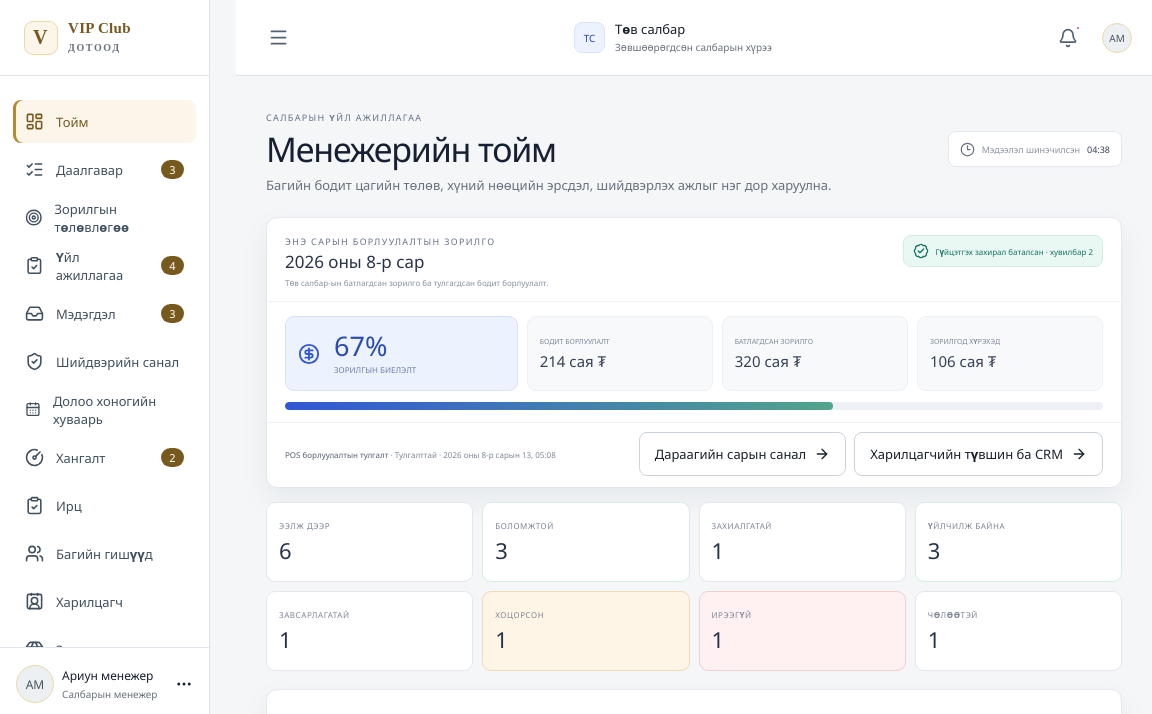
WeeklySchedulePage › shows PWA notifications and records an escalation without claiming delivery
Click the link "Мэдэгдэл 3".
click(104, 314)  # box [25,304,184,323]
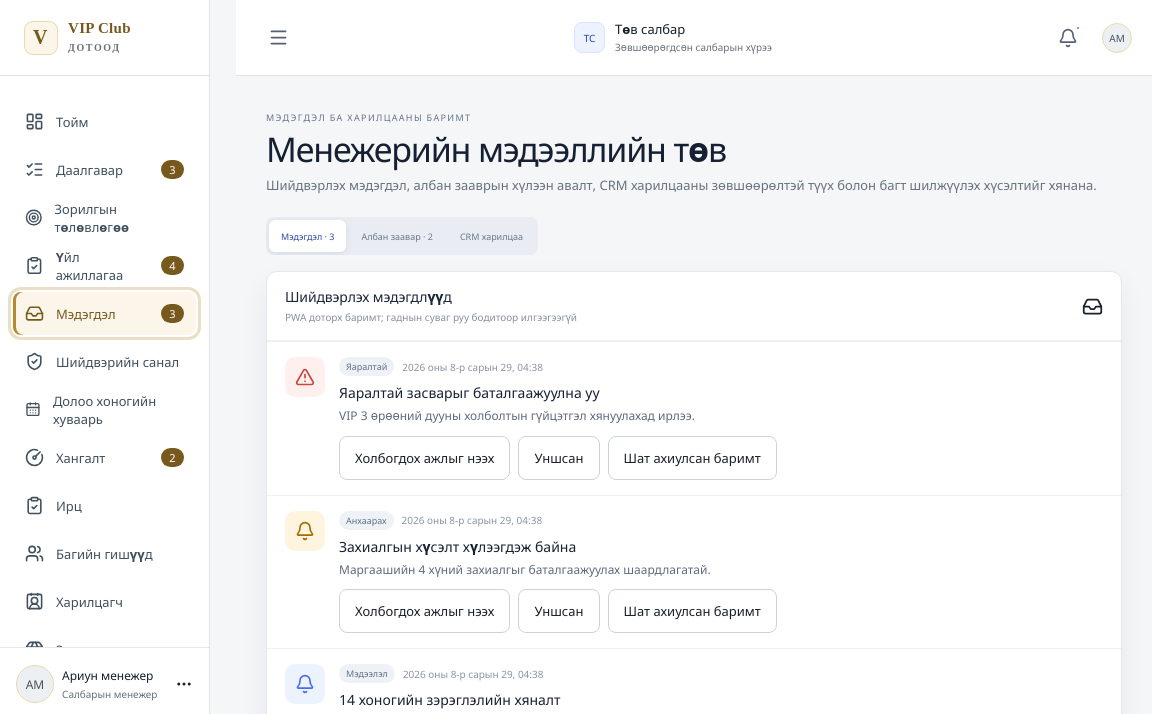
Check: the heading "Менежерийн мэдээллийн төв" is shown, box [266,126,726,172]
Check: the text "PWA доторх баримт; гаднын суваг руу бодитоор илгээгээгүй" is shown, box [285,310,577,324]
Click the button "Шат ахиулсан баримт" below "Яаралтай засварыг баталгаажуулна уу".
click(692, 458)  # box [608,436,777,480]
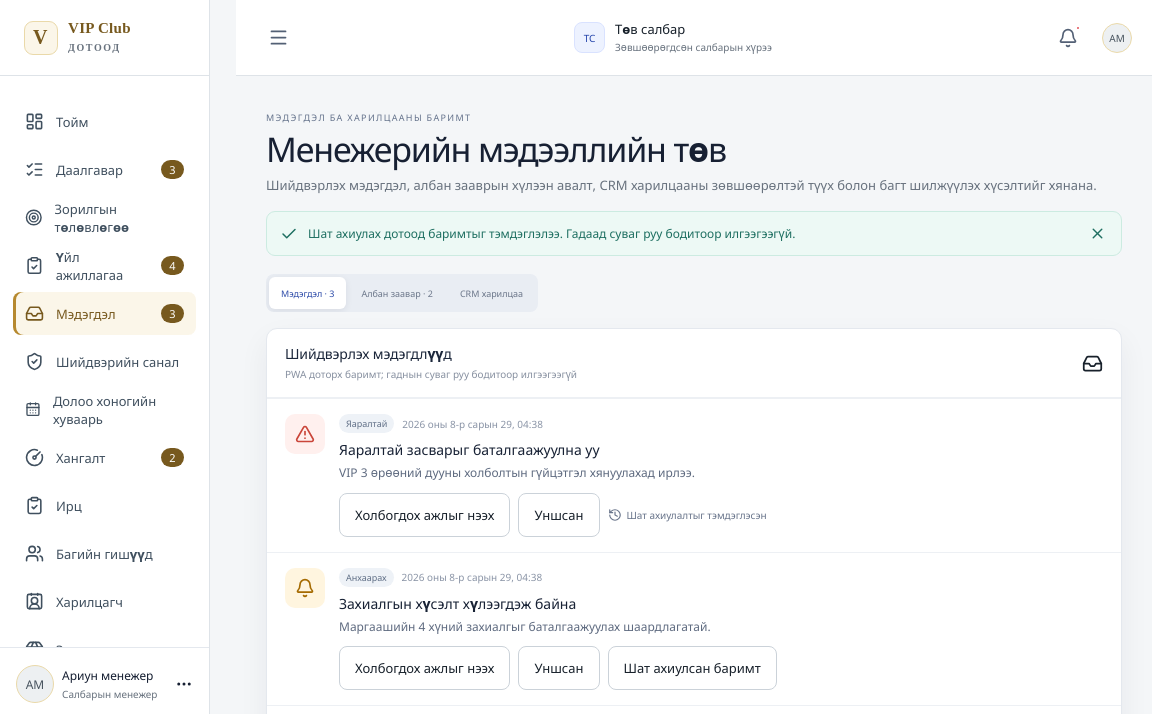
Check: the message shows "Гадаад суваг руу бодитоор илгээгээгүй", box [308,225,795,242]
